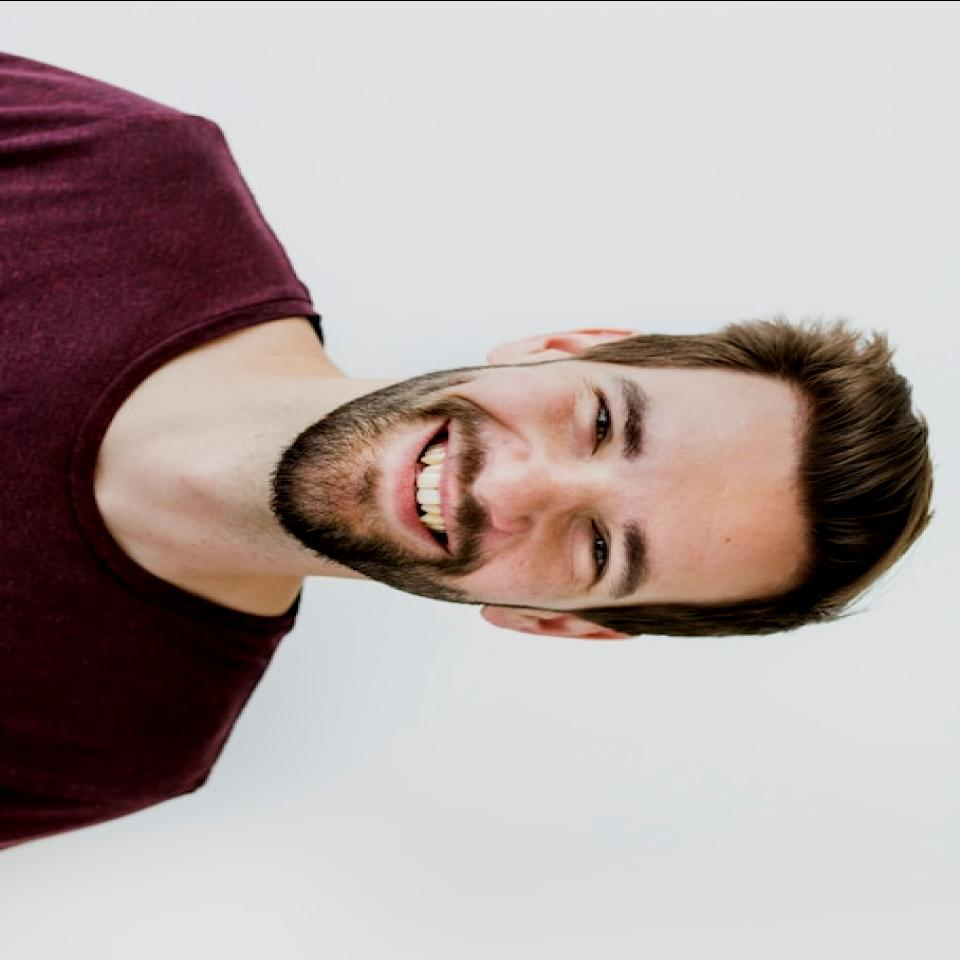Happiness: (290, 364, 771, 606)
